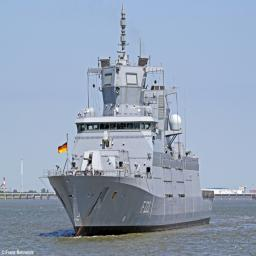Fragata: (41, 4, 218, 238)
